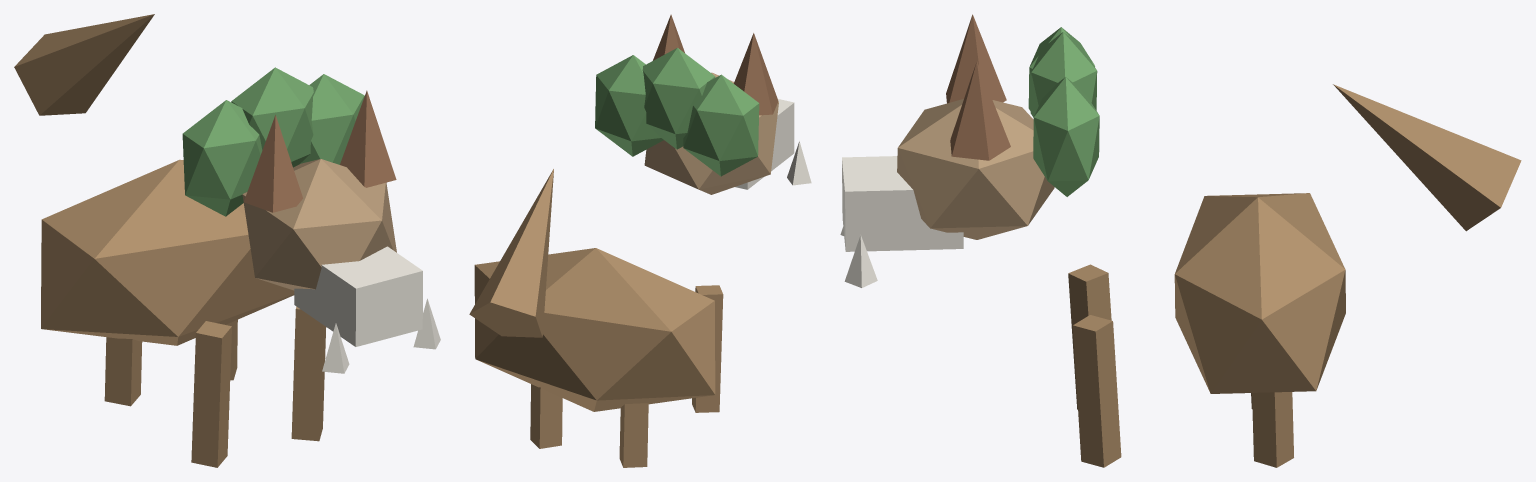
File: npcpose_wolf_idle_03.glb
3 views of the same model, side by side, from view 1: azimuth 30°, elevation 25°; view 2: azimuth 150°, elevation 25°; view 3: azimuth 270°, elevation 25° (orthographic). The views are drawn at different scales.
Parts seen in each view (by area): view 1: npcpose; view 2: npcpose; view 3: npcpose.
Part boxes in pixels (bbox=[...]): npcpose: bbox=[14, 14, 440, 467]; npcpose: bbox=[469, 14, 811, 467]; npcpose: bbox=[840, 14, 1521, 467].
Size of the model in its own units: 0.8873 by 1.21 by 1.84.
